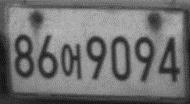0: (110, 34, 132, 81)
4: (158, 36, 181, 83)
6: (37, 34, 58, 79)
8: (14, 34, 34, 79)
9: (133, 36, 155, 82), (86, 35, 107, 80)
어: (60, 41, 82, 80)
